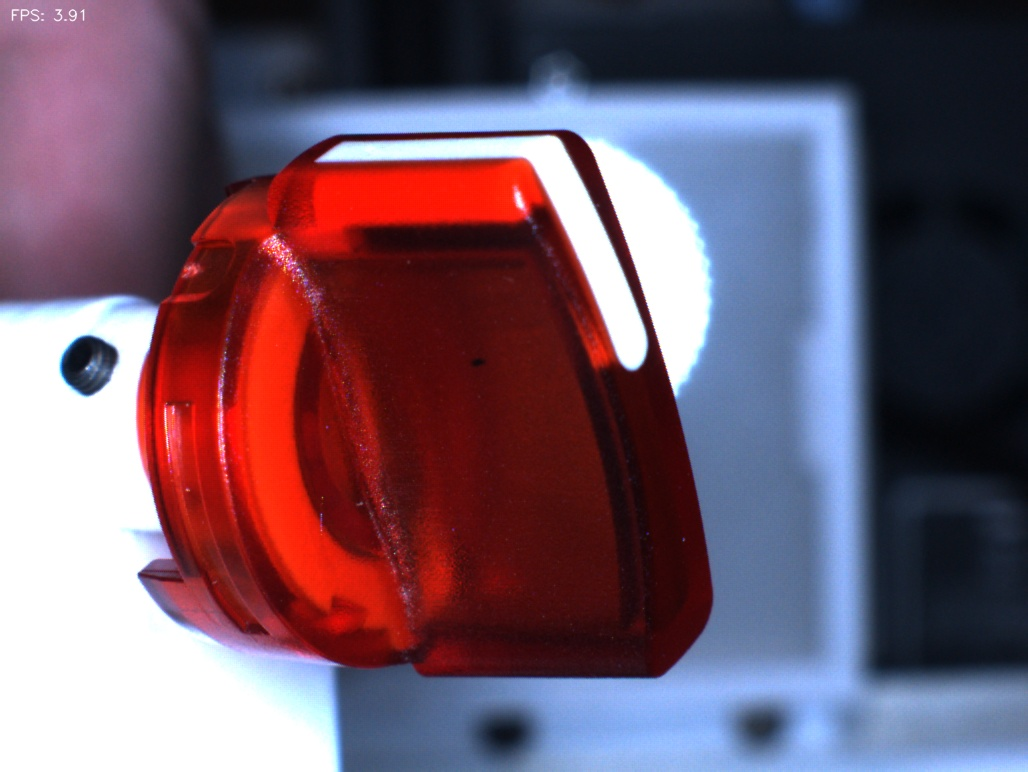PointNoir: (442, 320, 516, 403)
